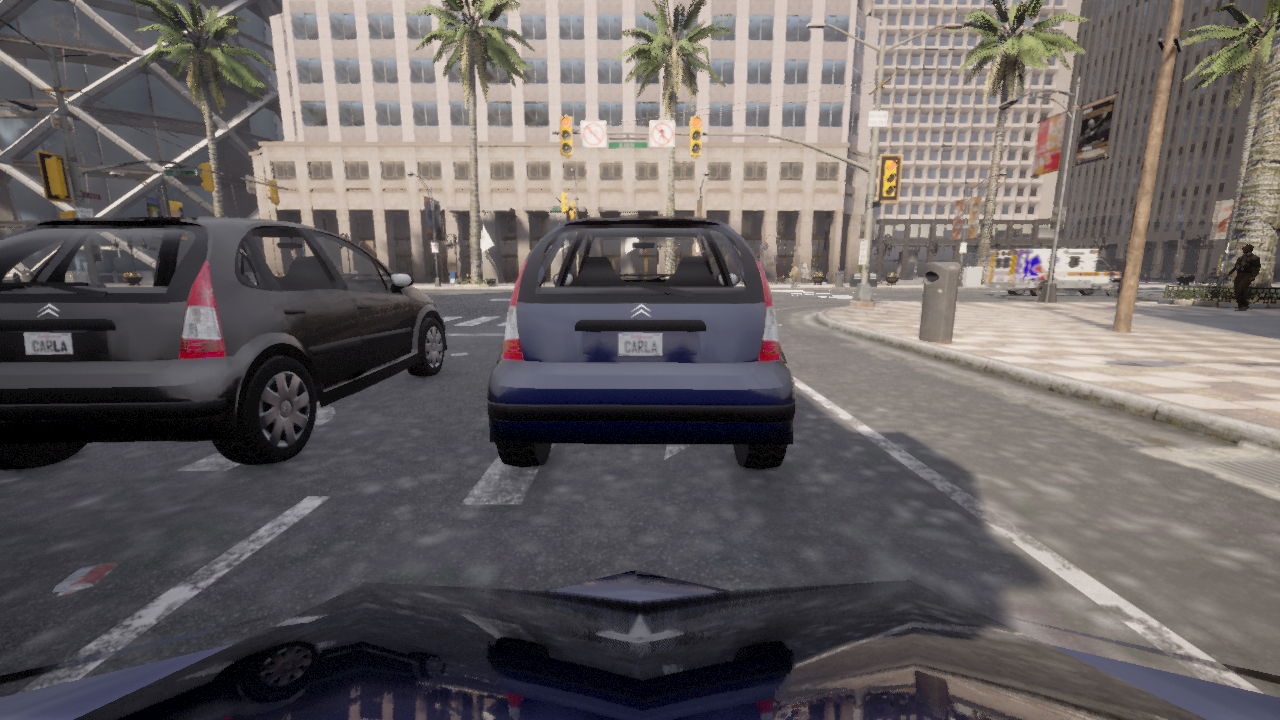cyclist: (0, 569, 1279, 719), (0, 217, 447, 469), (487, 216, 795, 468), (980, 248, 1122, 296)
pedestrian: (1224, 243, 1261, 311), (790, 264, 797, 286)
